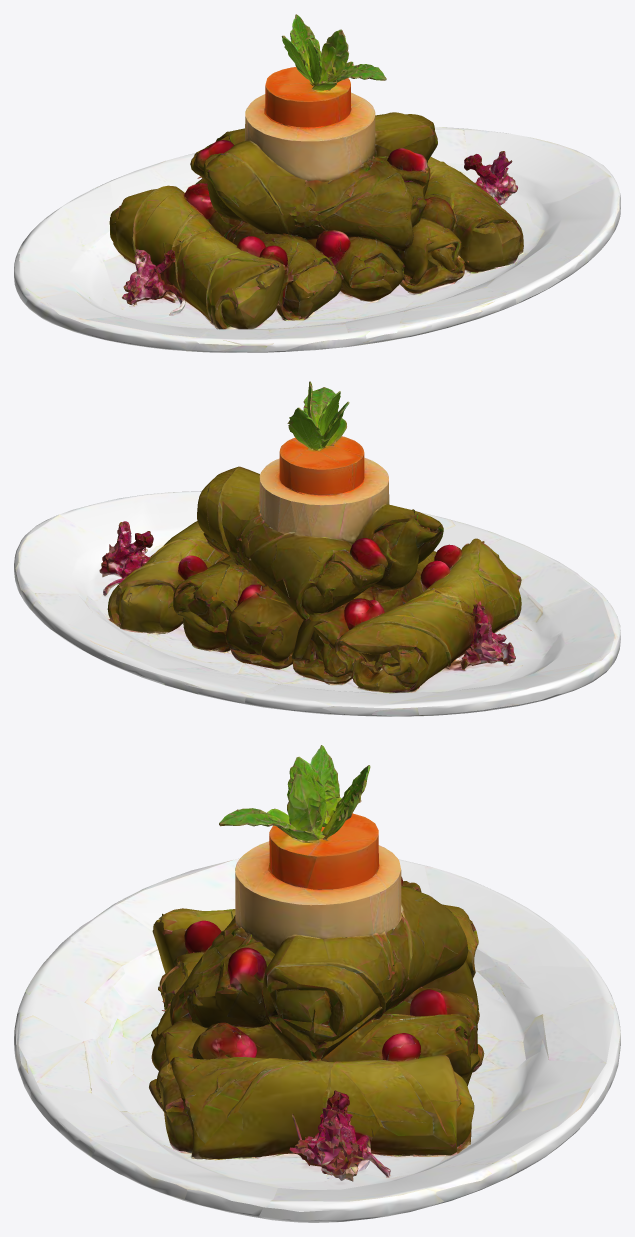
Rendered from warak-inab.glb.
The picture shows the model from 3 angles, top to bottom: view 1: azimuth 30°, elevation 25°; view 2: azimuth 150°, elevation 25°; view 3: azimuth 270°, elevation 25°; orthographic projection. The views are drawn at different scales.
Bounding box in the file's own units: 1.9 × 0.8444 × 1.36.
Materials: 1 (1 with a texture image).
